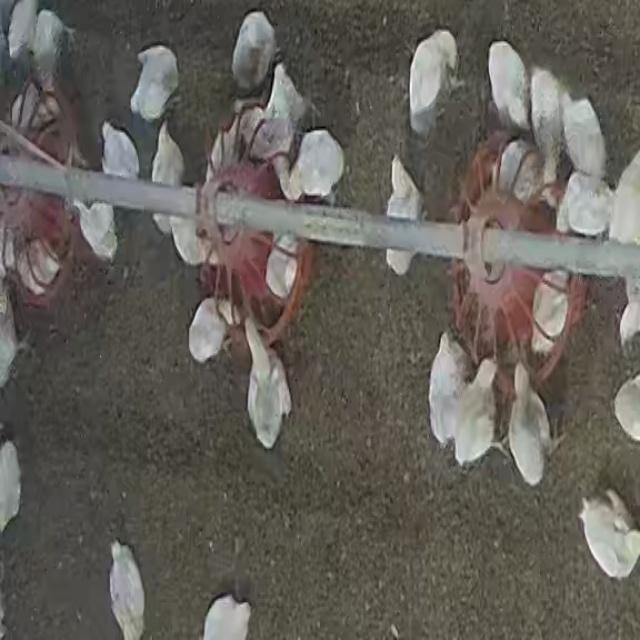chicken: (74, 125, 122, 263), (242, 314, 290, 450), (403, 30, 461, 134), (506, 362, 549, 486), (581, 490, 640, 580), (453, 360, 497, 468), (560, 88, 609, 181), (384, 160, 422, 276), (230, 10, 278, 100), (528, 67, 560, 201), (288, 128, 345, 202), (429, 332, 465, 447), (557, 172, 616, 241), (131, 42, 180, 122), (30, 9, 76, 90), (109, 542, 146, 640), (188, 294, 239, 364), (490, 38, 528, 131), (151, 123, 181, 237), (529, 274, 570, 356), (608, 144, 640, 247), (170, 183, 208, 263), (494, 138, 538, 200), (19, 236, 62, 292), (100, 122, 140, 180), (264, 235, 300, 299), (201, 594, 251, 638), (614, 375, 640, 445), (7, 1, 38, 59), (472, 356, 499, 394)
